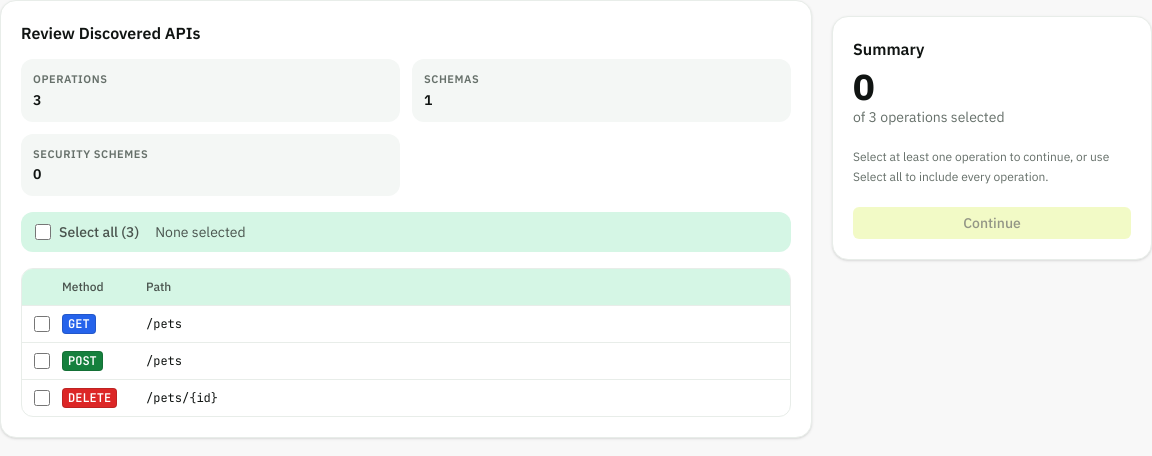
Test: ApiReviewStage operation selection › updates the summary after Select all when operations are deselected again
Click the checkbox labelled "Select all (3)": (43, 232) [35,224,51,240]
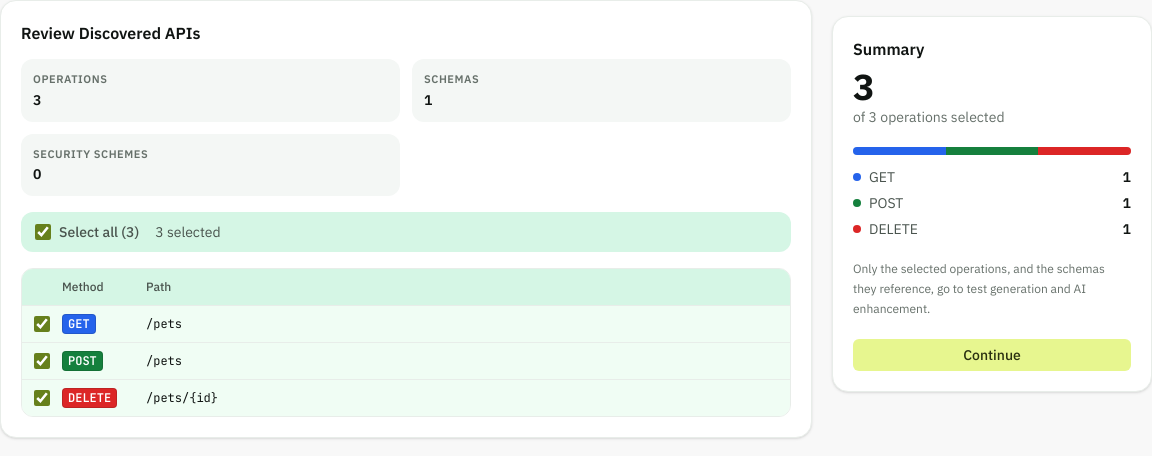
Click the checkbox named "Include GET /pets": (42, 324) [34,316,50,332]
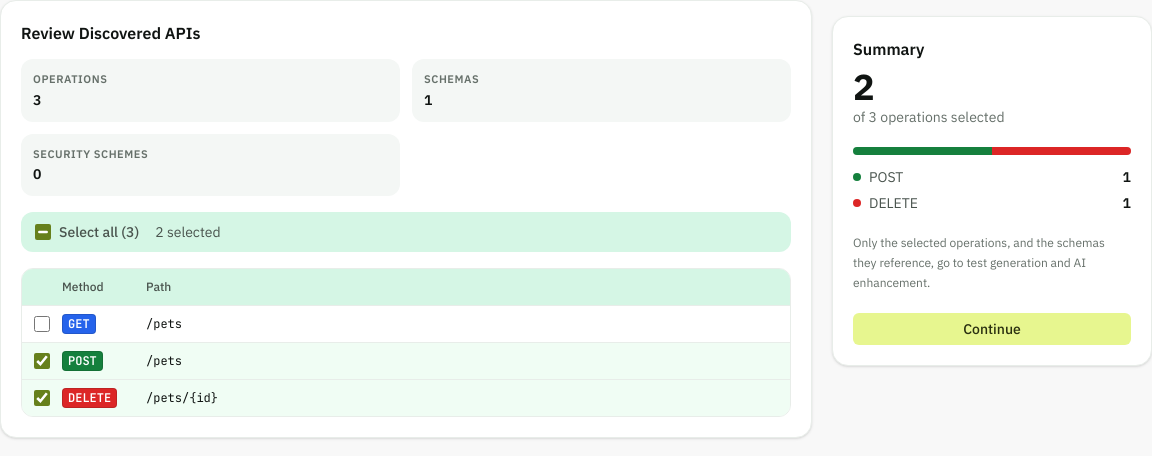
Now the checkbox labelled "Select all (3)" is not checked
# Clearing everything must not fall back to showing every operation.
Click the checkbox labelled "Select all (3)": (43, 232) [35,224,51,240]
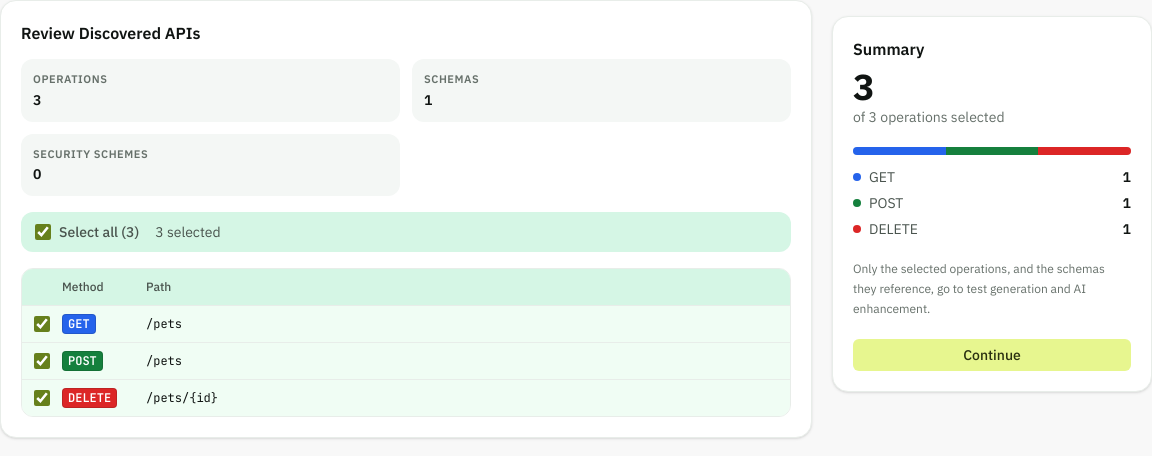
Click the checkbox labelled "Select all (3)": (43, 232) [35,224,51,240]
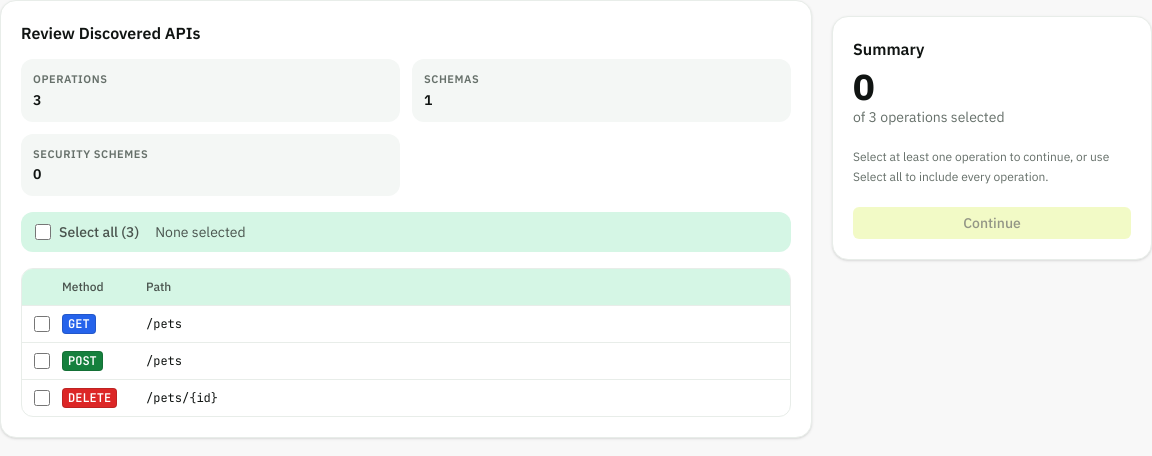
Now the button "Continue" is disabled, box [853,207,1131,239]
